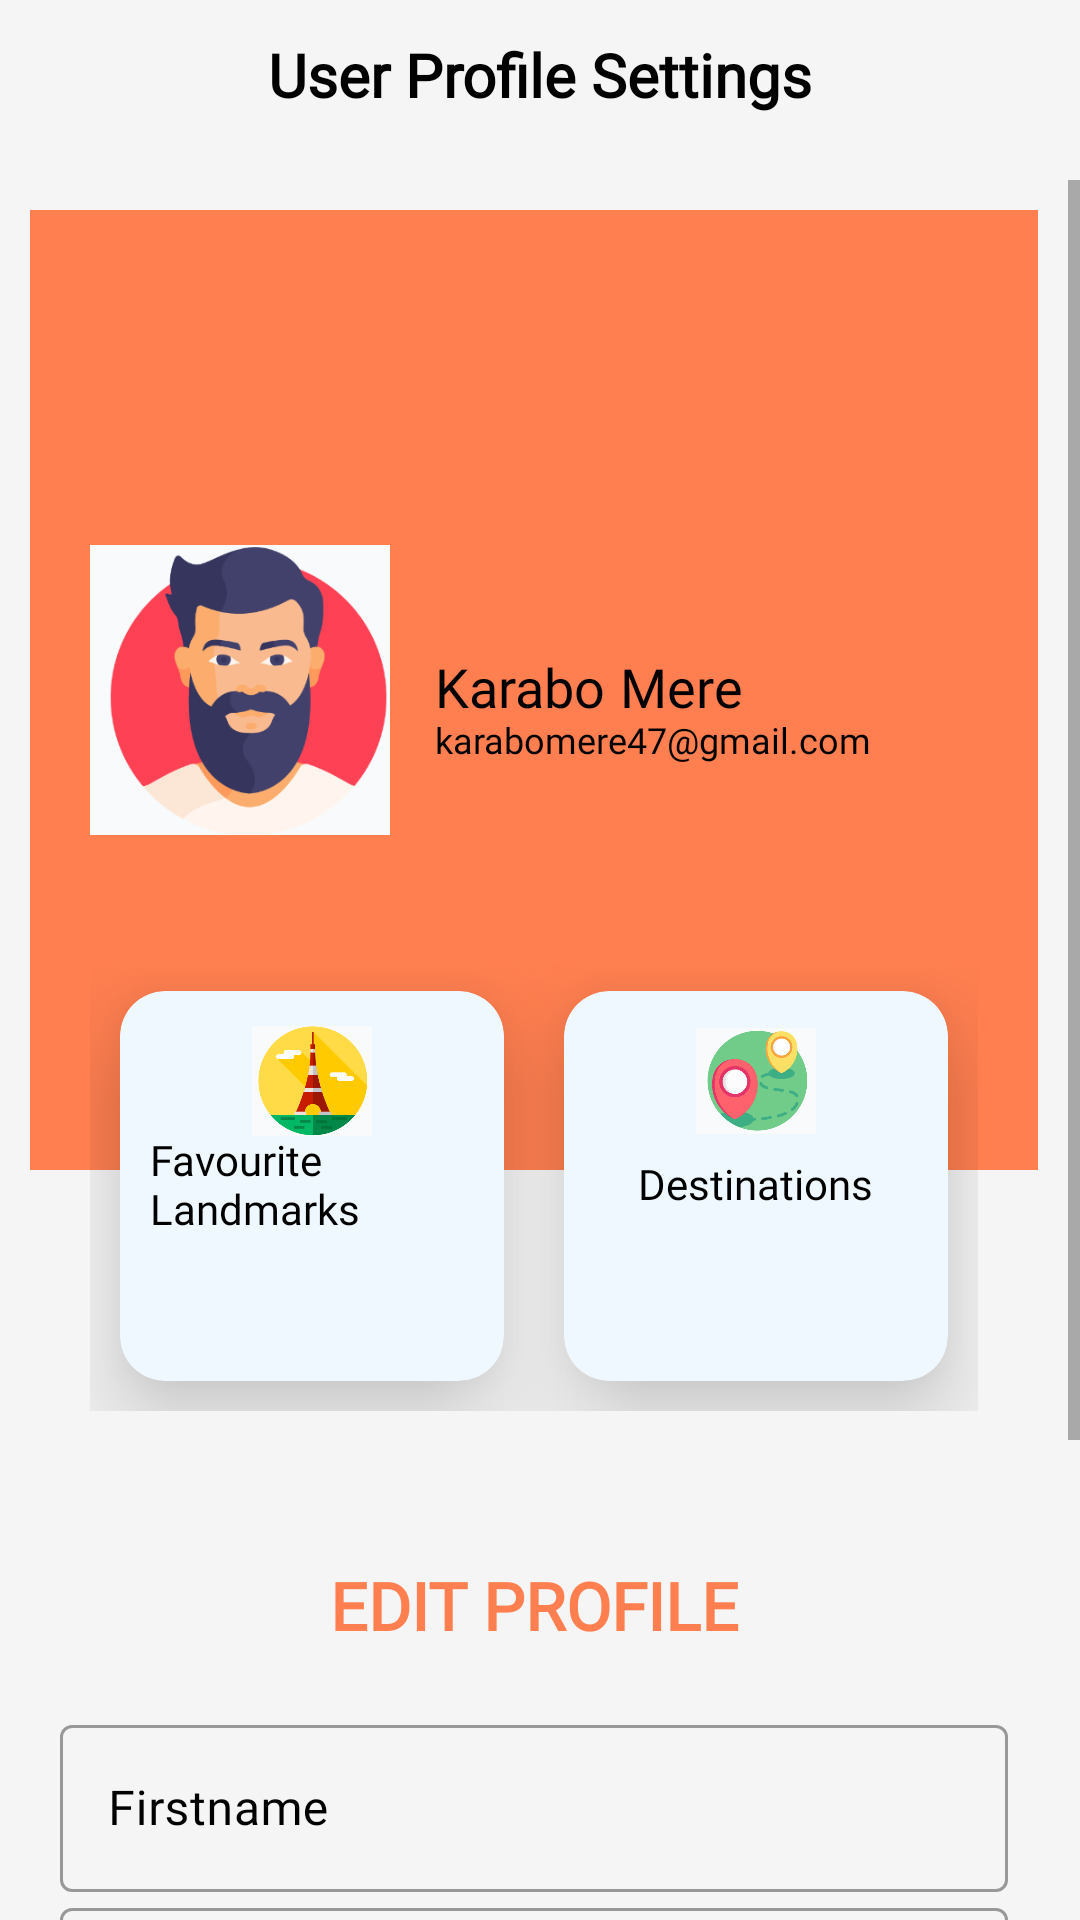

Icon bounding boxes for this 1080px×1920px phone screenshot, format box=[x1, y1, x2, y2]:
profile photo: box=[90, 545, 390, 835]
